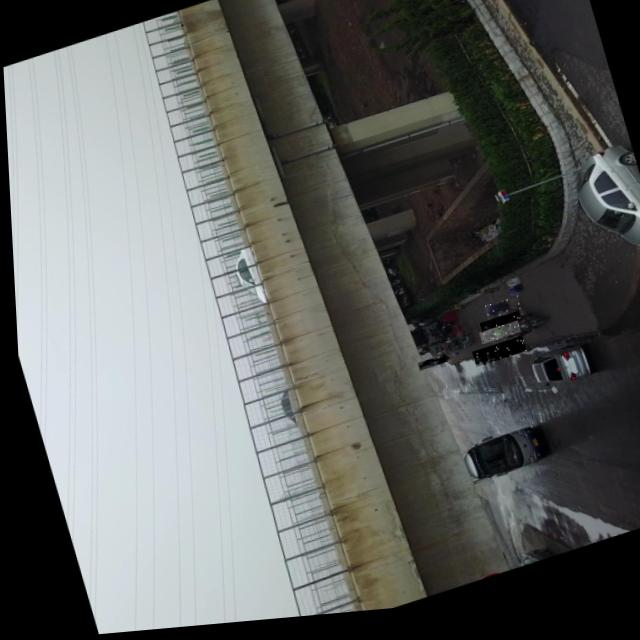Person: (467, 344, 522, 374), (479, 303, 519, 333), (474, 328, 517, 352), (475, 318, 519, 339), (483, 330, 513, 349), (412, 360, 444, 377)
